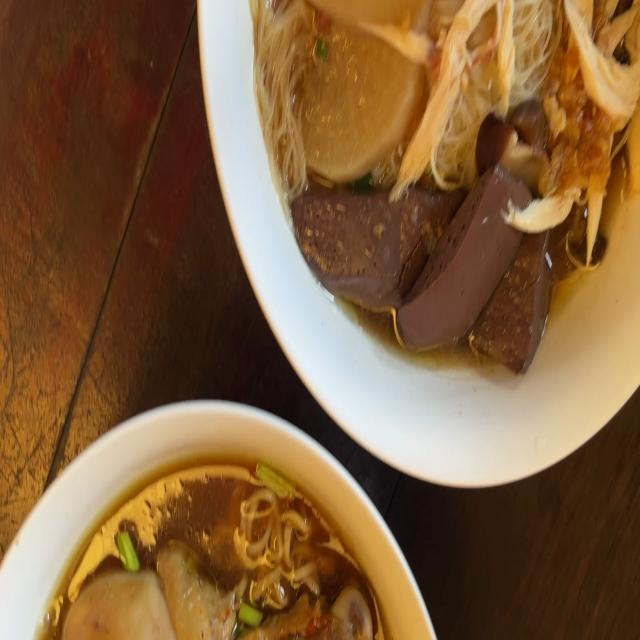noodle: (302, 184, 545, 350)
